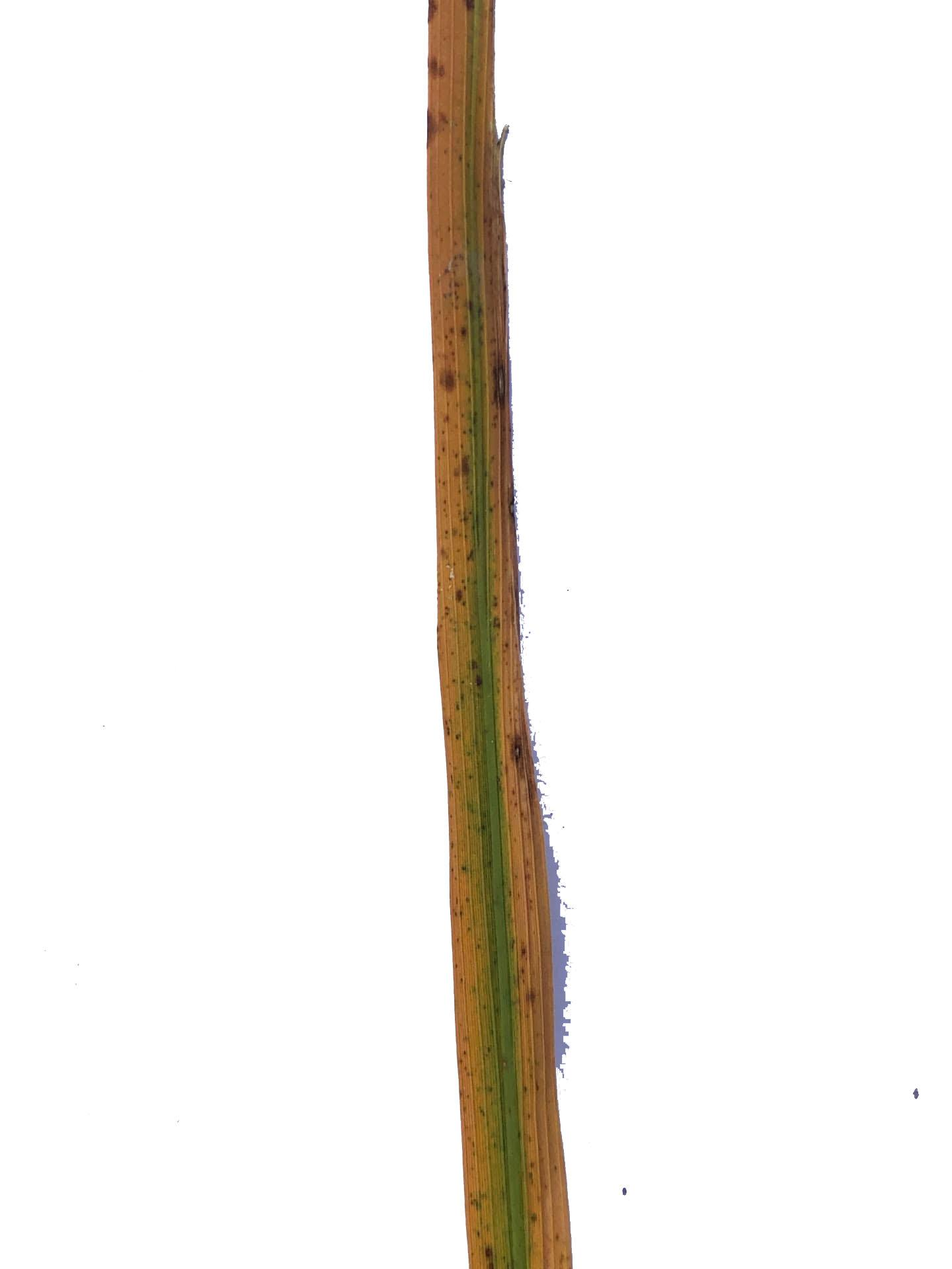Tungro: (427, 0, 575, 1269)
